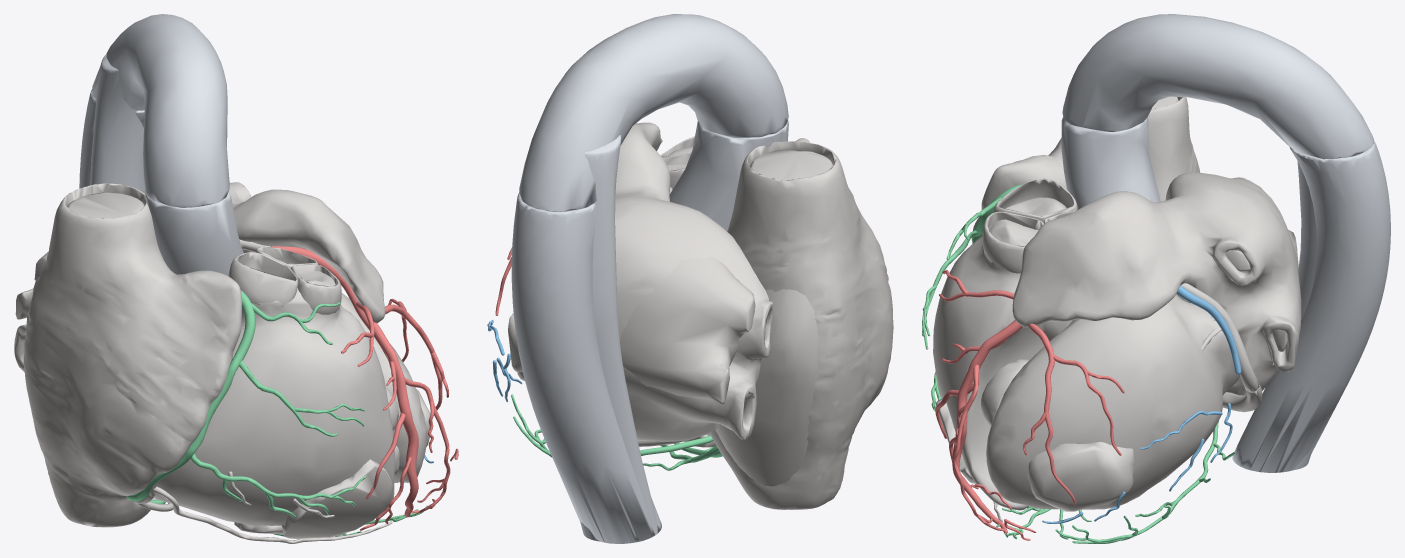
File: heart.glb
The picture shows the model from 3 angles, left to right: view 1: azimuth 30°, elevation 25°; view 2: azimuth 150°, elevation 25°; view 3: azimuth 270°, elevation 25°; orthographic projection. The views are drawn at different scales.
Parts seen in each view (by area): view 1: HEART, AORTA, LAD, RCA; view 2: HEART, AORTA, RCA, LCX; view 3: HEART, AORTA, LAD, RCA, LCX.
Part boxes in pixels (bbox=[...]): HEART: bbox=[14, 182, 431, 543]; AORTA: bbox=[79, 14, 243, 276]; LAD: bbox=[271, 246, 458, 530]; RCA: bbox=[126, 290, 427, 539]; HEART: bbox=[508, 122, 893, 509]; AORTA: bbox=[511, 14, 788, 543]; RCA: bbox=[511, 394, 722, 470]; LCX: bbox=[487, 320, 522, 401]; HEART: bbox=[933, 96, 1301, 521]; AORTA: bbox=[1061, 14, 1390, 472]; LAD: bbox=[935, 270, 1124, 540]; RCA: bbox=[922, 184, 1235, 543]; LCX: bbox=[1042, 286, 1241, 523].
Size of the model in its own units: 0.1157 by 0.1422 by 0.1314.
